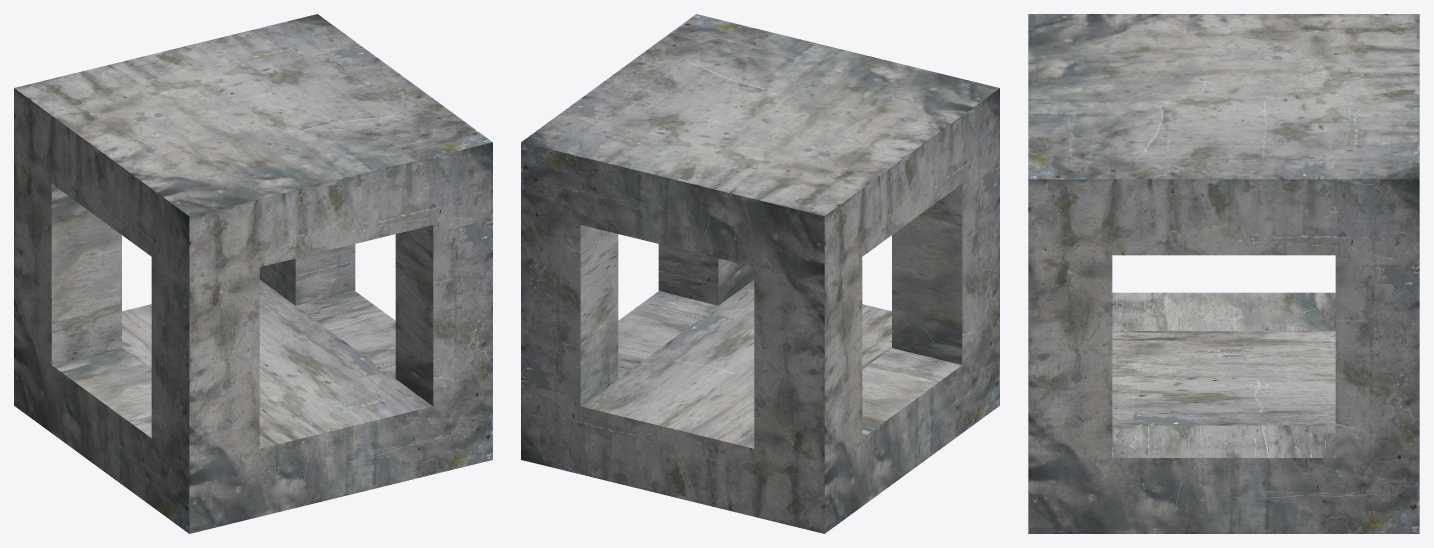
The model's file is Lueftungsschacht_05.fbx.
3 renders of one model, left to right at view 1: azimuth 30°, elevation 25°; view 2: azimuth 150°, elevation 25°; view 3: azimuth 270°, elevation 25°, orthographic. The views are drawn at different scales.
Parts seen in each view (by area): view 1: pCube25; view 2: pCube25; view 3: pCube25.
Boxes of the visible parts, x1,y1,x2,y2 form: pCube25: (14, 14, 492, 533); pCube25: (521, 14, 999, 533); pCube25: (1028, 14, 1419, 533).
Size of the model in its own units: 17.5 by 17.5 by 17.5.
Materials: 1 (1 with a texture image).
